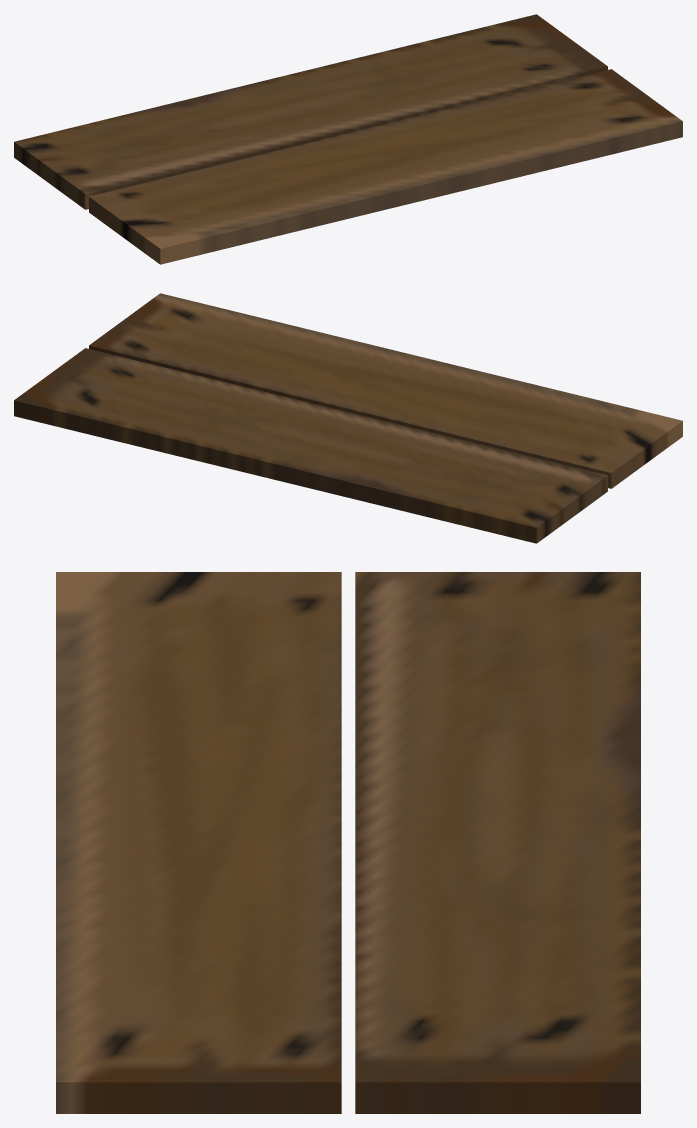
File: pz_barricade_2.obj
3 views of the same model, one above another, from view 1: azimuth 30°, elevation 25°; view 2: azimuth 150°, elevation 25°; view 3: azimuth 270°, elevation 25° (orthographic). The views are drawn at different scales.
Bounding box in the file's own units: 1 × 0.029 × 0.4848.
1 material, 1 textured.
